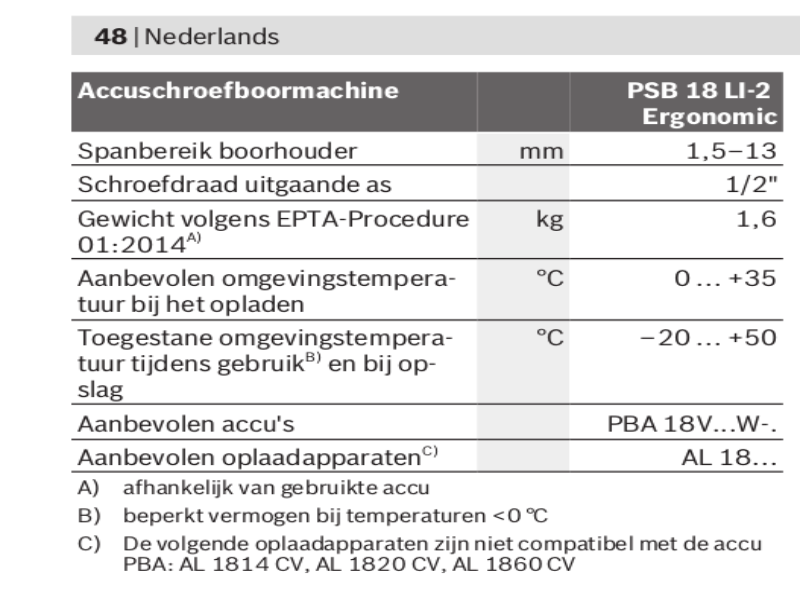borderless: (61, 65, 795, 584)
cell: (71, 475, 785, 577), (70, 323, 472, 401), (72, 206, 472, 254), (72, 268, 472, 315), (70, 441, 449, 468), (621, 77, 783, 129), (74, 170, 398, 196), (75, 136, 362, 162), (76, 80, 406, 102), (71, 410, 298, 436), (600, 410, 781, 437), (634, 325, 783, 351), (662, 265, 782, 292), (676, 444, 783, 468), (679, 137, 783, 161), (715, 170, 782, 194), (729, 206, 784, 232), (510, 142, 567, 162), (529, 324, 568, 351), (531, 265, 567, 294), (528, 207, 568, 232)
